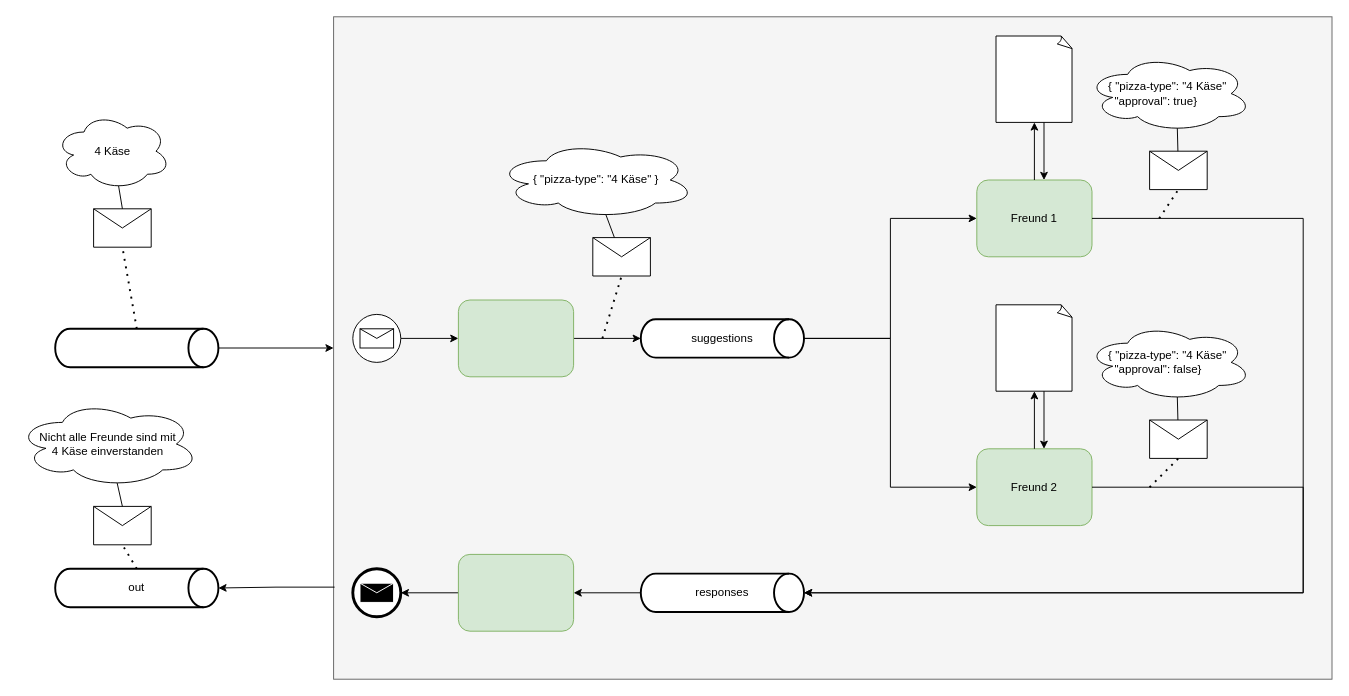
The diagram is 1349 pixels wide and 696 high, and some of its shapes have lost their labels. Each missing label, with the centre of its shape:
"Gather" belongs at point 515,592.
"in" belongs at point 136,347.
"Margherita, 4 Käse" belongs at point 1034,78.
"Margherita, Schinken" belongs at point 1034,347.
"Scatter" belongs at point 515,338.
